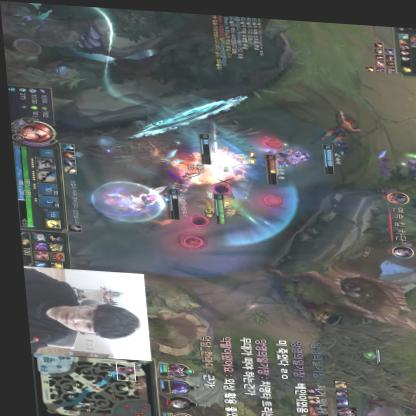streamer: (19, 267, 139, 359)
